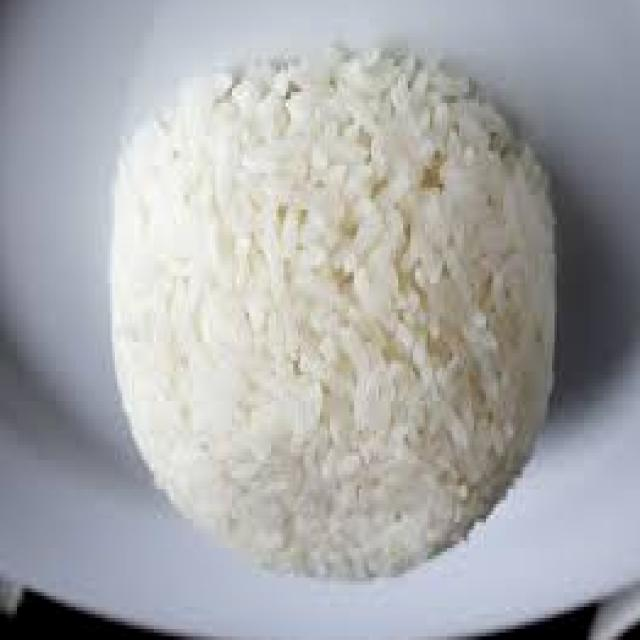nasi: (108, 52, 562, 593)
